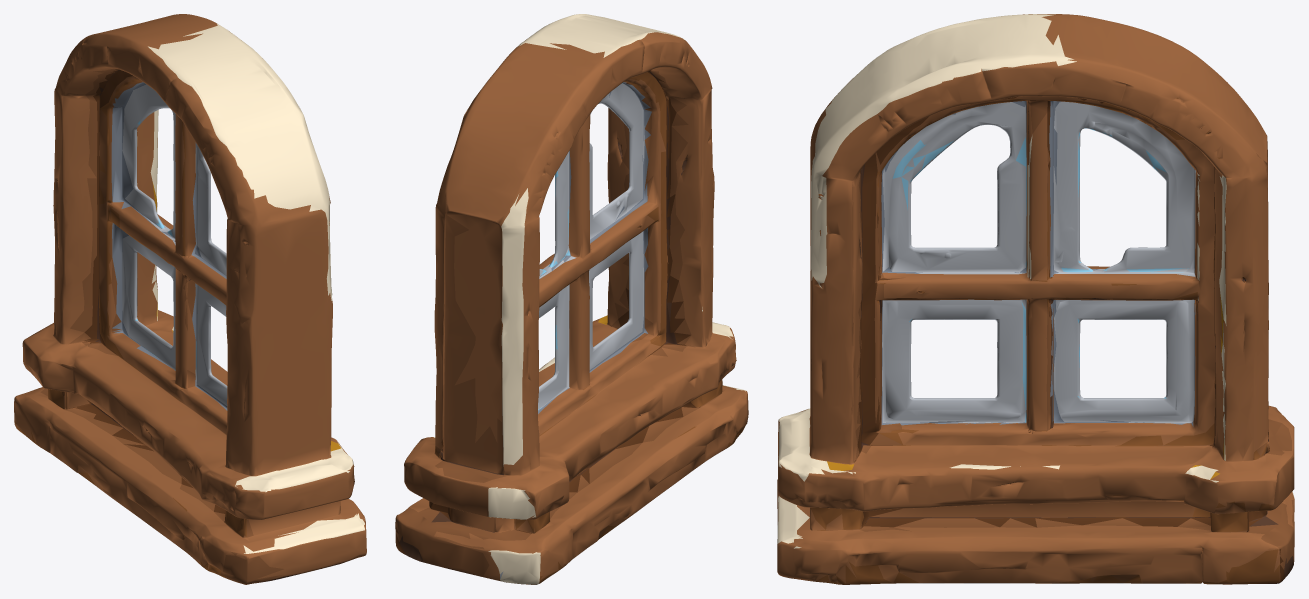
Rendered from SM_window_arched.glb.
3 views of the same model, side by side, from view 1: azimuth 30°, elevation 25°; view 2: azimuth 150°, elevation 25°; view 3: azimuth 270°, elevation 25° (orthographic). The views are drawn at different scales.
Visible parts, largest first — view 1: SM_window_arched; view 2: SM_window_arched; view 3: SM_window_arched.
Boxes of the visible parts, bbox=[...] form: SM_window_arched: bbox=[14, 14, 366, 584]; SM_window_arched: bbox=[395, 14, 748, 584]; SM_window_arched: bbox=[777, 14, 1294, 584].
Bounding box in the file's own units: 0.4613 × 1.3 × 1.19.
Materials: 1 (1 with a texture image).
